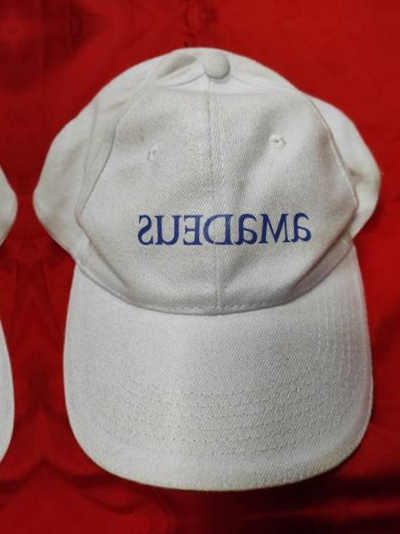Hat: (17, 15, 400, 503), (0, 42, 42, 529), (0, 0, 367, 18), (0, 0, 7, 44)
